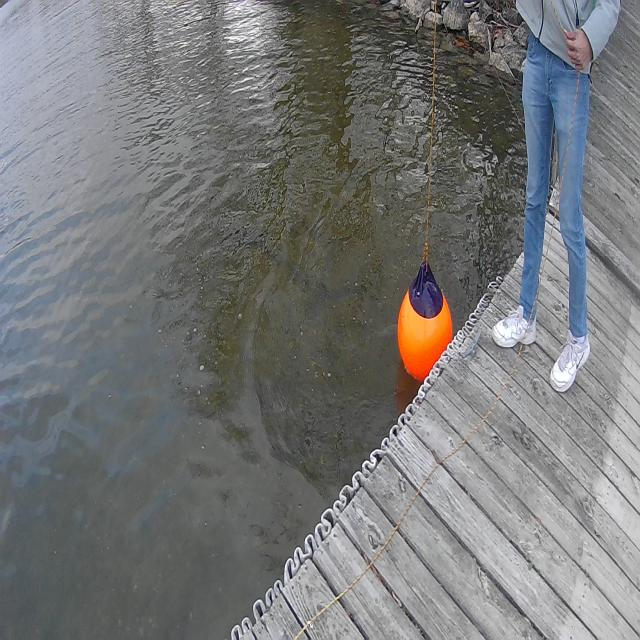Buoy: (396, 252, 458, 389)
